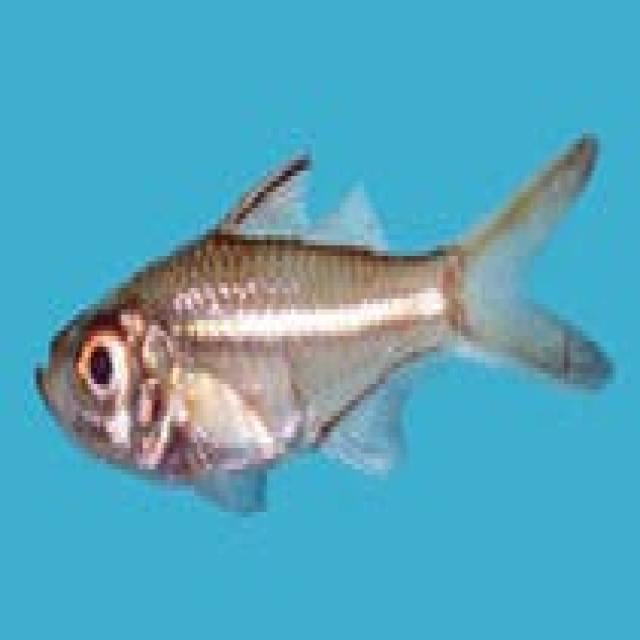Glass-Perchlet: (25, 70, 631, 574)
